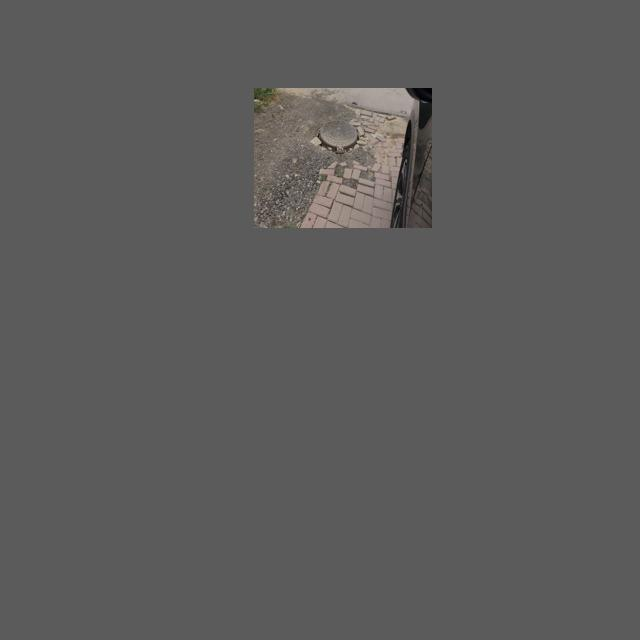circle: (306, 109, 373, 165)
